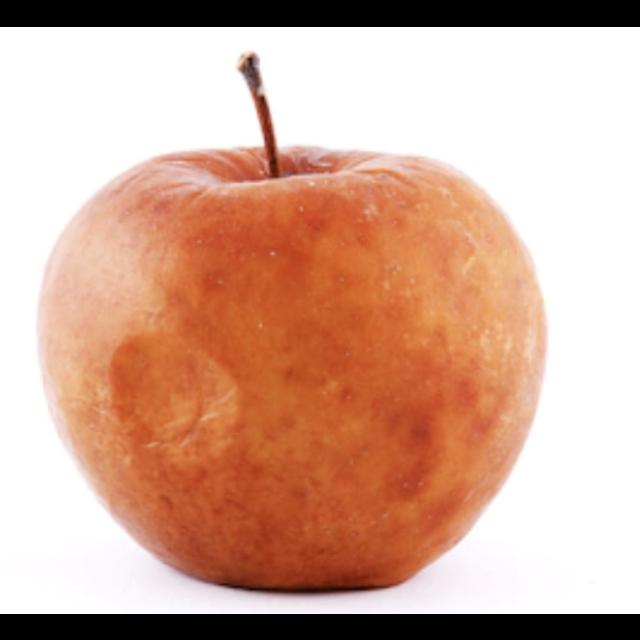Apel Tidak Segar: (41, 148, 544, 590)
